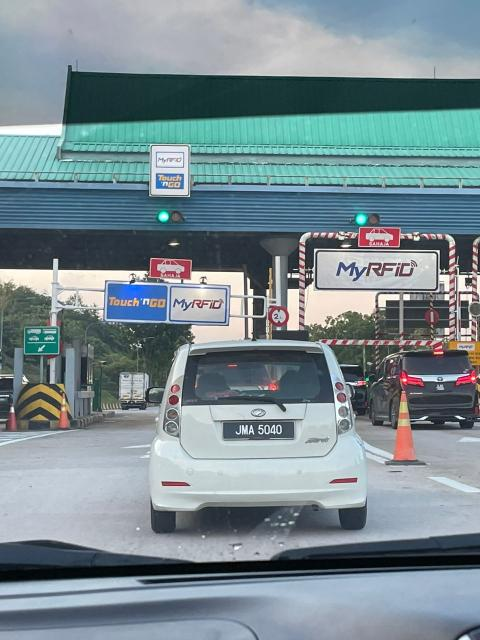License_Plate: (225, 421, 300, 446)
car: (149, 342, 369, 537)
